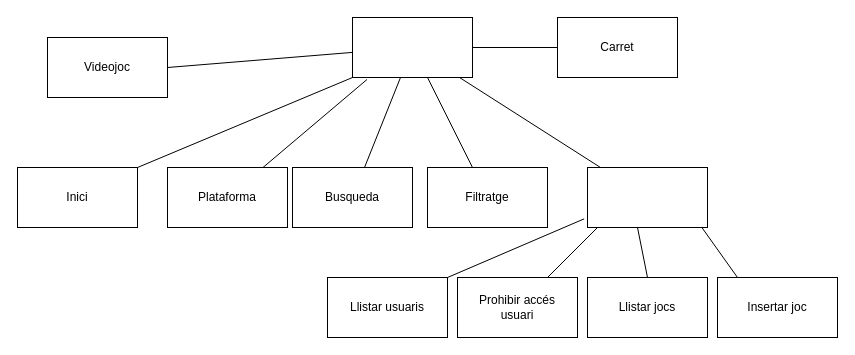
The diagram is 855 pixels wide and 355 high, and some of its shapes have lost their labels. Here are the shapes that lost their labels. From the top down, the centre of each, then its label:
(412,47): Vos.es
(647,197): Backend
